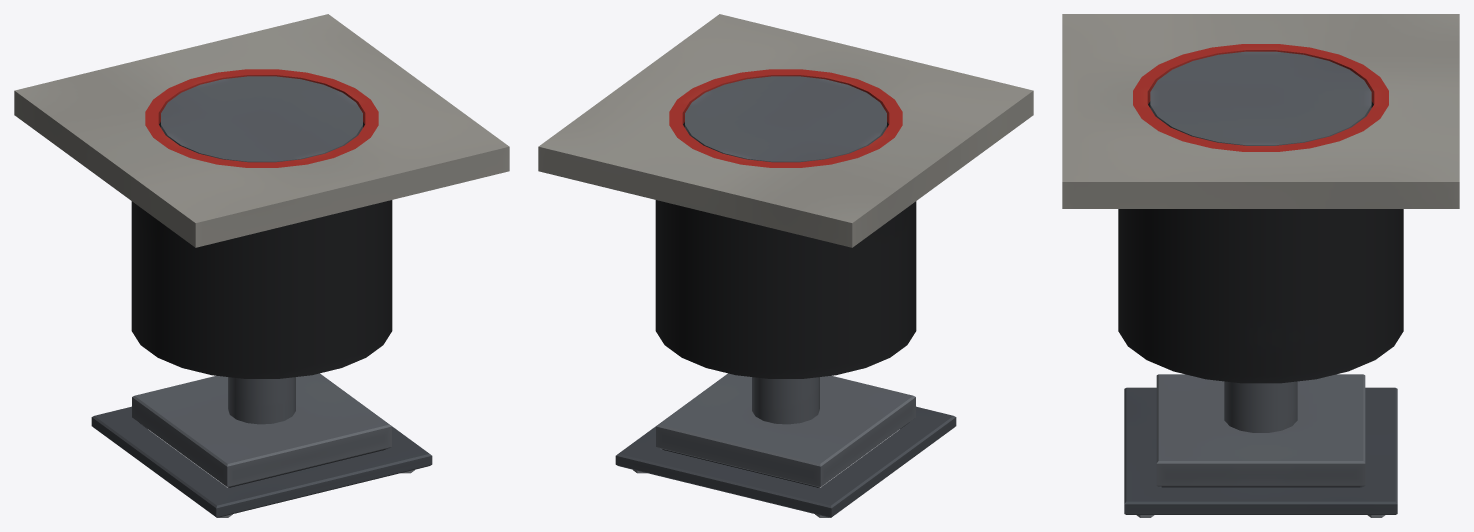
Rendered from item_gasoline.obj.
3 renders of one model, left to right at view 1: azimuth 30°, elevation 25°; view 2: azimuth 150°, elevation 25°; view 3: azimuth 270°, elevation 25°, orthographic. The views are drawn at different scales.
Visible parts, largest first — view 1: fuel_fill_cover__frame_gasoline__top, fuel_fill_cover__frame_gasoline__bucket, fuel_fill_cover__frame_gasoline__riser_base, fuel_fill_cover__lid_closed__lid, fuel_fill_cover__frame_gasoline__fport_plate, fuel_fill_cover__frame_gasoline__rim, fuel_fill_cover__frame_gasoline__riser; view 2: fuel_fill_cover__frame_gasoline__top, fuel_fill_cover__frame_gasoline__bucket, fuel_fill_cover__frame_gasoline__riser_base, fuel_fill_cover__lid_closed__lid, fuel_fill_cover__frame_gasoline__fport_plate, fuel_fill_cover__frame_gasoline__rim, fuel_fill_cover__frame_gasoline__riser; view 3: fuel_fill_cover__frame_gasoline__top, fuel_fill_cover__frame_gasoline__bucket, fuel_fill_cover__frame_gasoline__riser_base, fuel_fill_cover__lid_closed__lid, fuel_fill_cover__frame_gasoline__fport_plate, fuel_fill_cover__frame_gasoline__rim, fuel_fill_cover__frame_gasoline__riser.
Part boxes in pixels (box(x1,y1,x2,y2)): fuel_fill_cover__frame_gasoline__top: box(14, 14, 509, 247); fuel_fill_cover__frame_gasoline__bucket: box(131, 122, 392, 378); fuel_fill_cover__frame_gasoline__riser_base: box(132, 373, 391, 487); fuel_fill_cover__lid_closed__lid: box(161, 76, 362, 162); fuel_fill_cover__frame_gasoline__fport_plate: box(91, 374, 432, 517); fuel_fill_cover__frame_gasoline__rim: box(145, 69, 378, 167); fuel_fill_cover__frame_gasoline__riser: box(228, 377, 295, 424); fuel_fill_cover__frame_gasoline__top: box(538, 14, 1033, 247); fuel_fill_cover__frame_gasoline__bucket: box(655, 122, 916, 378); fuel_fill_cover__frame_gasoline__riser_base: box(656, 373, 915, 487); fuel_fill_cover__lid_closed__lid: box(685, 76, 886, 162); fuel_fill_cover__frame_gasoline__fport_plate: box(615, 374, 956, 517); fuel_fill_cover__frame_gasoline__rim: box(669, 69, 902, 167); fuel_fill_cover__frame_gasoline__riser: box(752, 377, 819, 424); fuel_fill_cover__frame_gasoline__top: box(1062, 14, 1459, 208); fuel_fill_cover__frame_gasoline__bucket: box(1118, 101, 1403, 383); fuel_fill_cover__frame_gasoline__riser_base: box(1156, 374, 1365, 486); fuel_fill_cover__lid_closed__lid: box(1150, 51, 1371, 145); fuel_fill_cover__frame_gasoline__fport_plate: box(1124, 387, 1397, 514); fuel_fill_cover__frame_gasoline__rim: box(1133, 44, 1388, 151); fuel_fill_cover__frame_gasoline__riser: box(1224, 381, 1297, 432).
Bounding box in the file's own units: 1 × 1.02 × 1.
